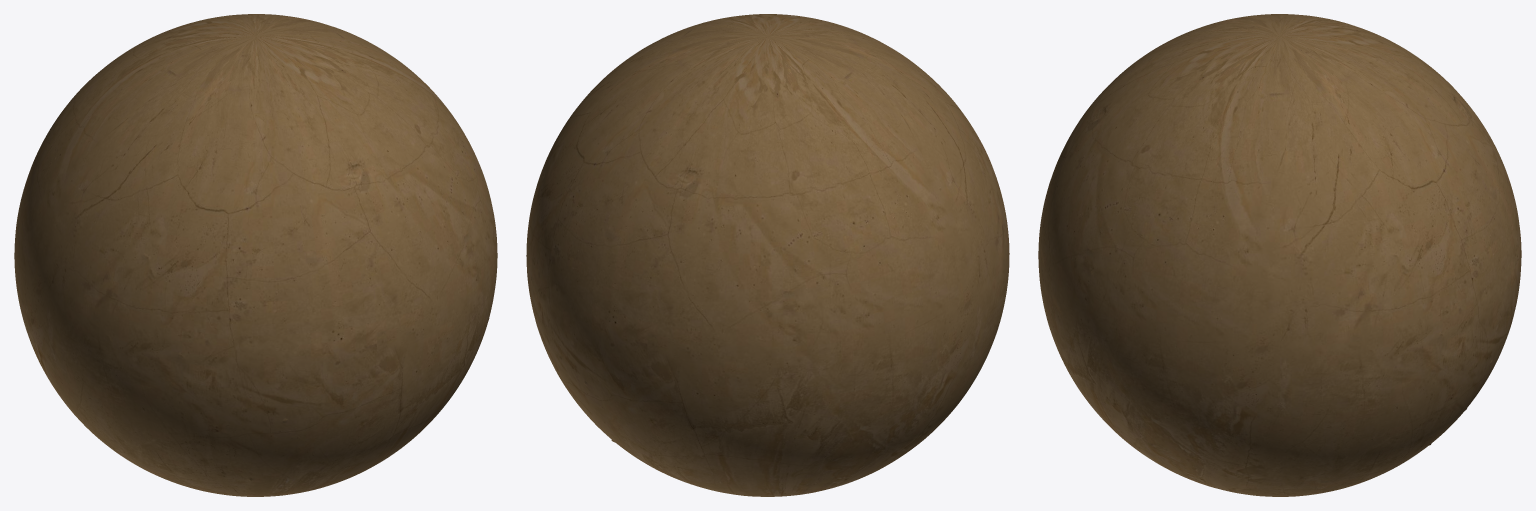
The model's file is clay_floor_001_1k.gltf.
3 renders of one model, left to right at view 1: azimuth 30°, elevation 25°; view 2: azimuth 150°, elevation 25°; view 3: azimuth 270°, elevation 25°, orthographic.
Parts seen in each view (by area): view 1: sphere_gltf; view 2: sphere_gltf; view 3: sphere_gltf.
Boxes of the visible parts, x1,y1,x2,y2 form: sphere_gltf: (14,14,497,496); sphere_gltf: (526,14,1009,496); sphere_gltf: (1038,14,1521,496).
Size of the model in its own units: 2 by 2 by 2.
1 material, 1 textured.
